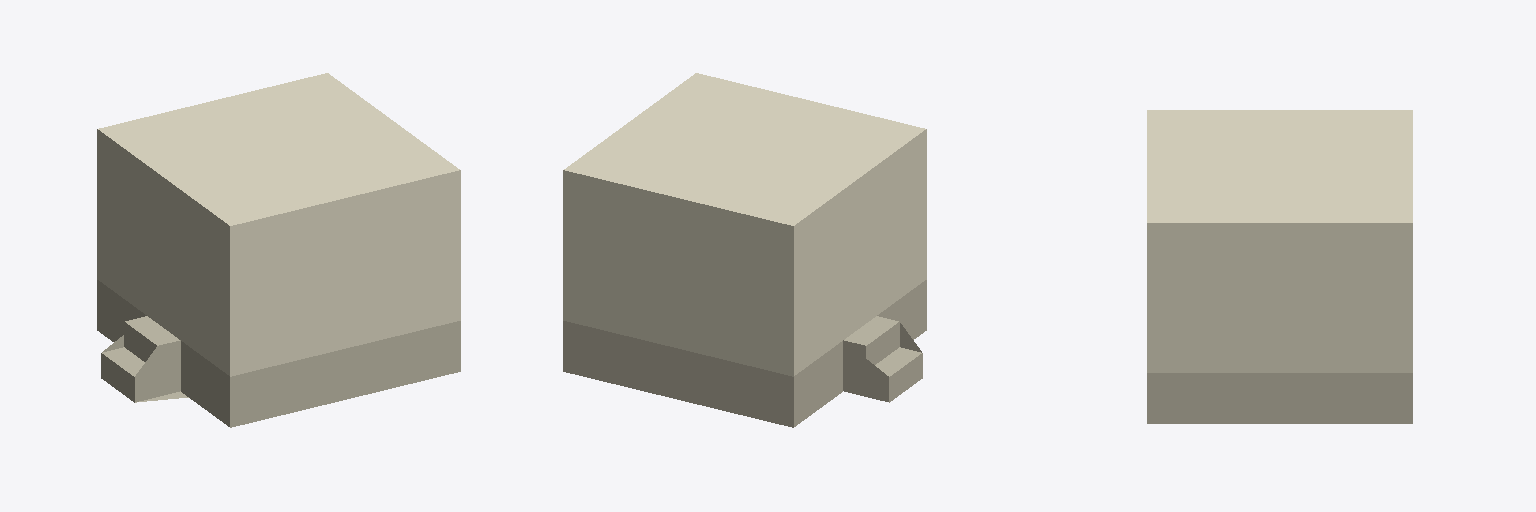
File: modularBuildings_027.obj
The picture shows the model from 3 angles: view 1: azimuth 30°, elevation 25°; view 2: azimuth 150°, elevation 25°; view 3: azimuth 270°, elevation 25°; orthographic projection.
Visible parts, largest first — view 1: Mesh1 Group1 Model; view 2: Mesh1 Group1 Model; view 3: Mesh1 Group1 Model.
Boxes of the visible parts, x1,y1,x2,y2 form: Mesh1 Group1 Model: [97, 73, 460, 427]; Mesh1 Group1 Model: [563, 73, 926, 427]; Mesh1 Group1 Model: [1147, 110, 1412, 423].
Size of the model in its own units: 1.2 by 0.8375 by 1.